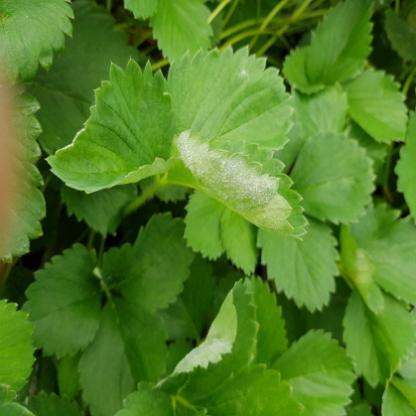Strawberry_Powdery_Mildew_Leaf: (43, 54, 182, 194), (171, 128, 310, 242), (164, 42, 296, 154), (150, 278, 262, 406)
